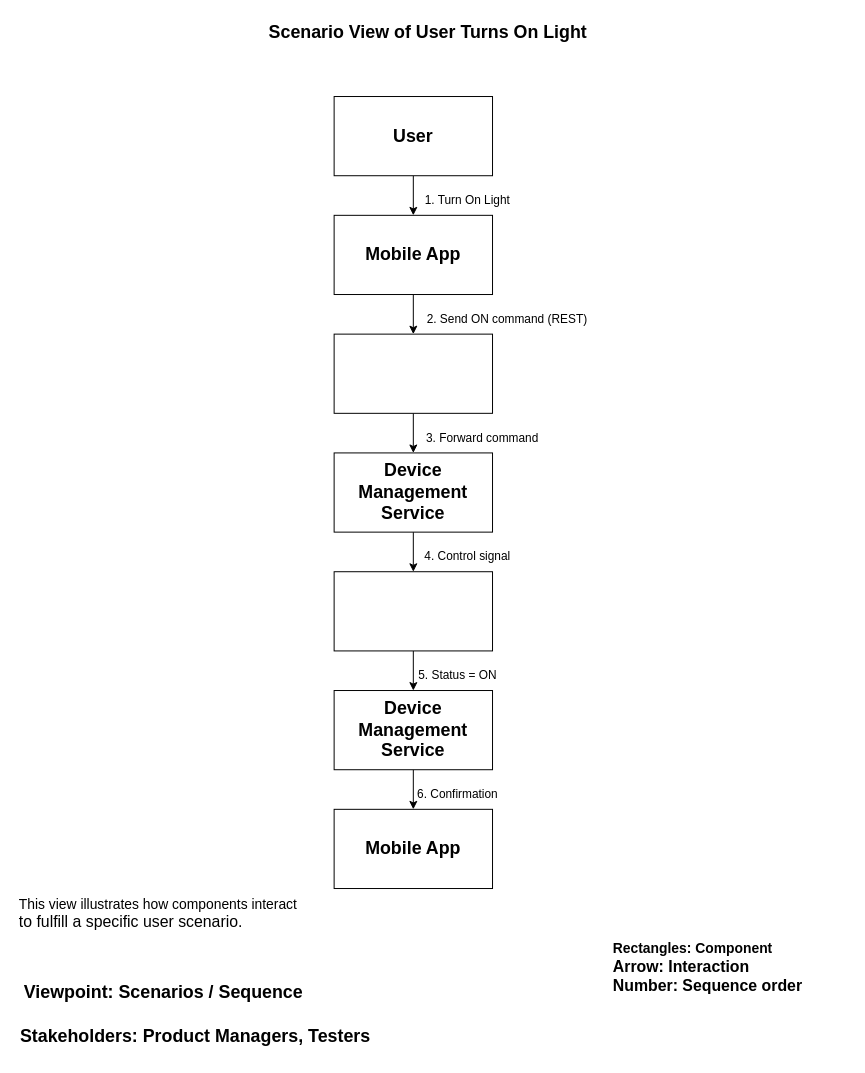
Image size: 865x1073. Some labels were removed from this diagram. Here are the shapes that lost their labels. From the top down, the centre of each, then its label:
At point 413,373: "API Gateway".
At point 413,611: "Smart Light Device".
